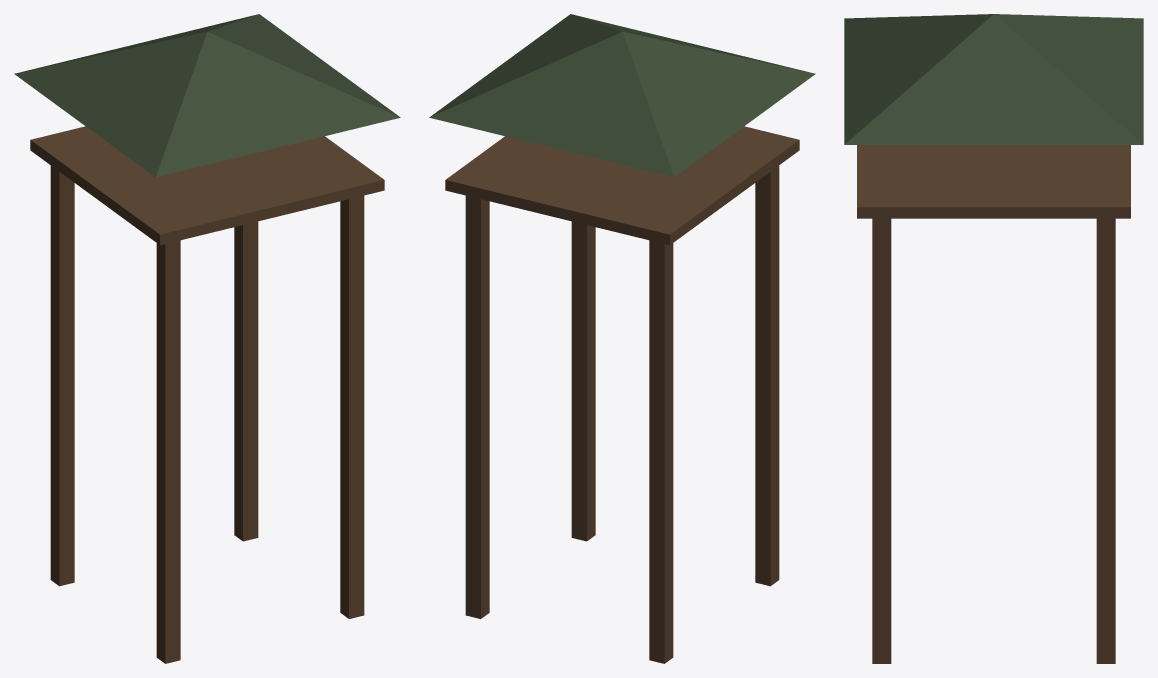
File: watchtower_wood.glb
3 renders of one model, left to right at view 1: azimuth 30°, elevation 25°; view 2: azimuth 150°, elevation 25°; view 3: azimuth 270°, elevation 25°, orthographic. The views are drawn at different scales.
Visible parts, largest first — view 1: WatchtowerWood; view 2: WatchtowerWood; view 3: WatchtowerWood.
Part boxes in pixels (box(x1,y1,x2,y2)): WatchtowerWood: box(14, 14, 400, 663); WatchtowerWood: box(429, 14, 815, 663); WatchtowerWood: box(844, 14, 1143, 663).
Size of the model in its own units: 4.81 by 10.6 by 4.81.
